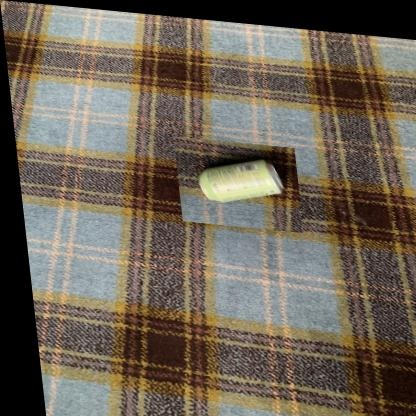trash: (199, 160, 283, 202)
